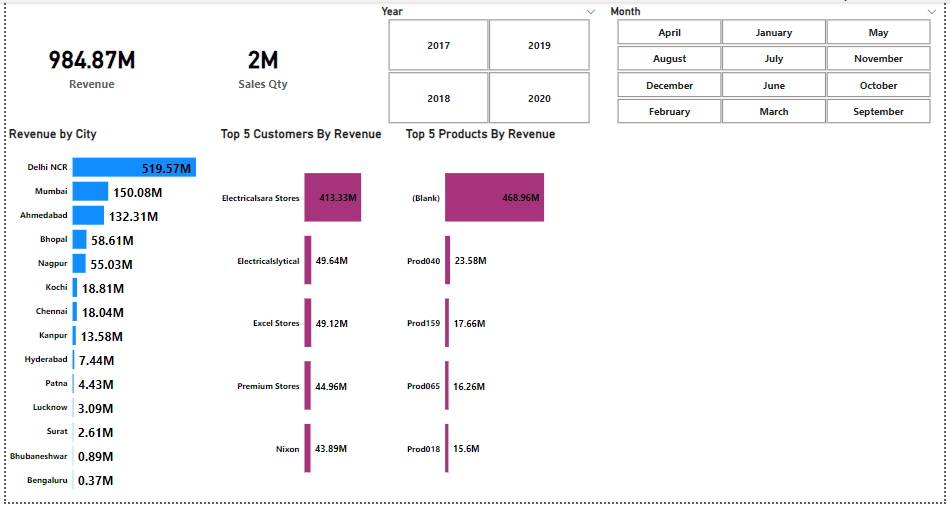

This screenshot's page, from the dashboard's own definition file:
{"tool":"powerbi","page":{"name":"Top Customers and products","canvas":[1650,880],"ordinal":1},"visuals":[{"type":"card","fields":{"Values":["BaseMeasures.Revenue"]},"box":[0,0,301.6,220],"z":0},{"type":"card","fields":{"Values":["BaseMeasures.Sales Qty"]},"box":[301.6,0,303.4,220],"z":1000},{"type":"slicer","fields":{"Values":["sales date.year"]},"box":[647.6,0,402.7,220],"z":4000},{"type":"slicer","fields":{"Values":["sales date.month_name"]},"box":[1050.3,0,599.7,220],"z":5000},{"type":"barChart","title":"Revenue by City","fields":{"Category":["sales markets.markets_name"],"Y":["BaseMeasures.Revenue"]},"box":[0,220,372.6,660],"z":6000},{"type":"barChart","title":"Top 5 Customers By Revenue","fields":{"Category":["sales customers.custmer_name"],"Y":["BaseMeasures.Revenue"]},"box":[372.6,220,301.6,660],"z":7000},{"type":"barChart","title":"Top 5 Products By Revenue","fields":{"Category":["sales products.product_code"],"Y":["BaseMeasures.Revenue"]},"box":[699,220,301.6,660],"z":8000}]}

Visuals, with their boxes in screenshot pixels (x1, y1, x2, y2), scaled from the page's 1650x880 canvas onto the 950x509 screenshot:
card - BaseMeasures.Revenue: 0 0 174 127
card - BaseMeasures.Sales Qty: 174 0 348 127
slicer - sales date.year: 373 0 605 127
slicer - sales date.month_name: 605 0 949 127
"Revenue by City" barChart: 0 127 215 508
"Top 5 Customers By Revenue" barChart: 215 127 388 508
"Top 5 Products By Revenue" barChart: 402 127 576 508
